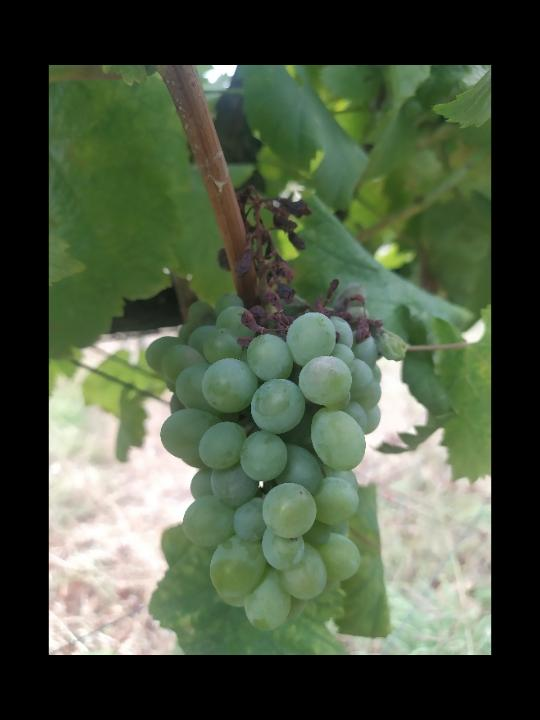grape: (141, 182, 411, 634)
